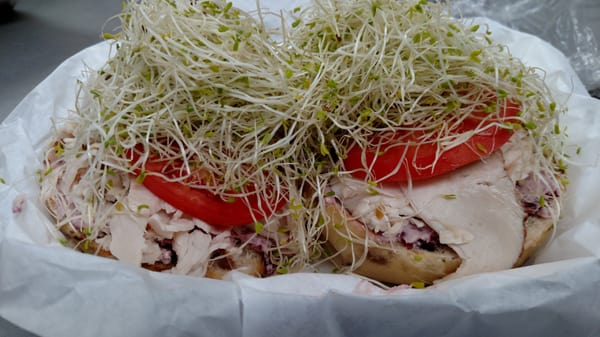soup: (14, 5, 568, 295)
